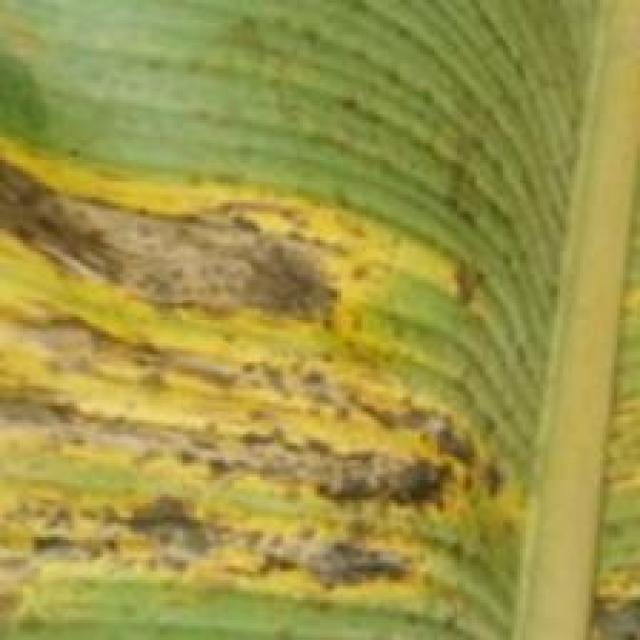Downey_mildrew: (0, 83, 589, 640)
